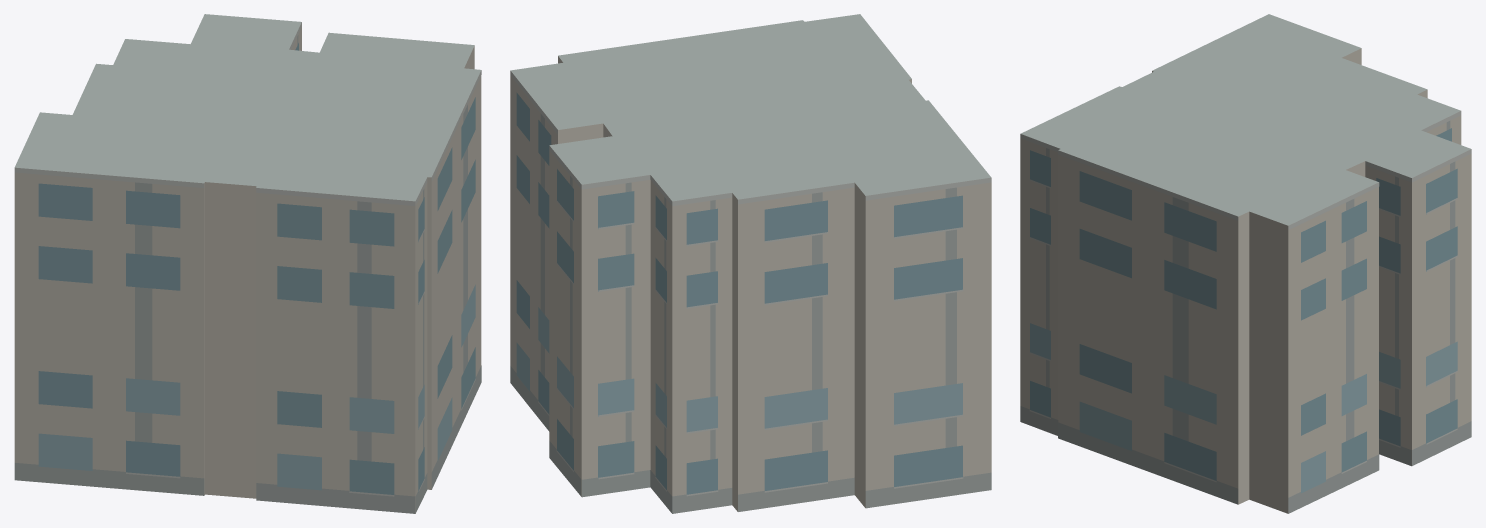
Rendered from survey-upis-32842132.glb.
3 views of the same model, side by side, from view 1: azimuth 30°, elevation 25°; view 2: azimuth 150°, elevation 25°; view 3: azimuth 270°, elevation 25° (orthographic). The views are drawn at different scales.
Parts seen in each view (by area): view 1: survey-upis-32842132.tmp; view 2: survey-upis-32842132.tmp; view 3: survey-upis-32842132.tmp.
Part boxes in pixels (x1,y1,x2,y2): survey-upis-32842132.tmp: (14,14,481,513); survey-upis-32842132.tmp: (510,14,991,513); survey-upis-32842132.tmp: (1020,14,1471,513).
Size of the model in its own units: 24.75 by 15.7 by 22.29.
